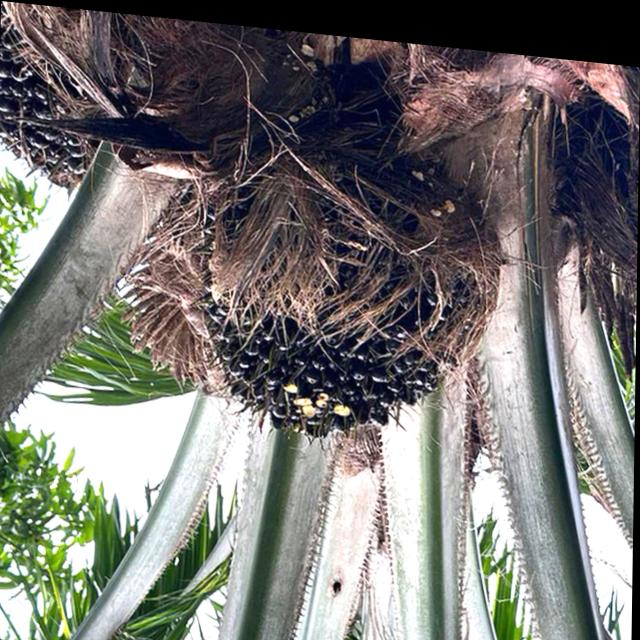unripe: (187, 149, 496, 454), (0, 0, 127, 201)
